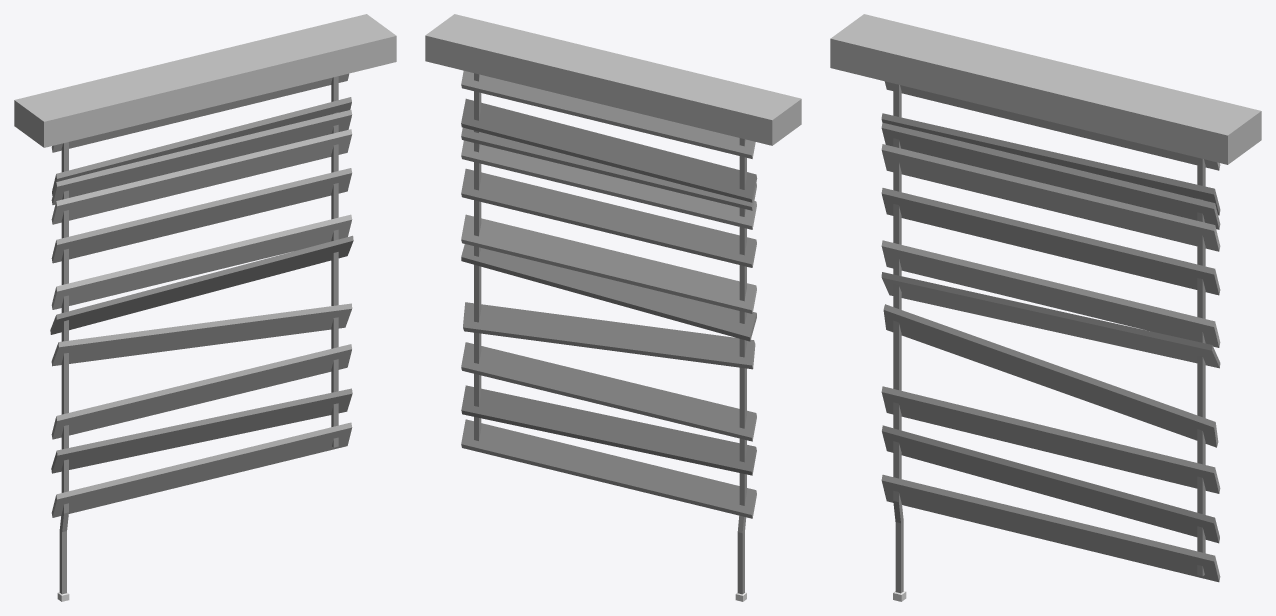
File: SM_Bld_House_Window_Blinds_Damaged_01.fbx
The picture shows the model from 3 angles, left to right: view 1: azimuth 30°, elevation 25°; view 2: azimuth 150°, elevation 25°; view 3: azimuth 330°, elevation 25°; orthographic projection. The views are drawn at different scales.
Visible parts, largest first — view 1: SM_Bld_House_Window_Blinds_01; view 2: SM_Bld_House_Window_Blinds_01; view 3: SM_Bld_House_Window_Blinds_01.
Part boxes in pixels (x1,y1,x2,y2): SM_Bld_House_Window_Blinds_01: [14, 14, 396, 601]; SM_Bld_House_Window_Blinds_01: [425, 14, 801, 601]; SM_Bld_House_Window_Blinds_01: [830, 14, 1261, 601].
Size of the model in its own units: 111 by 151 by 16.27.
